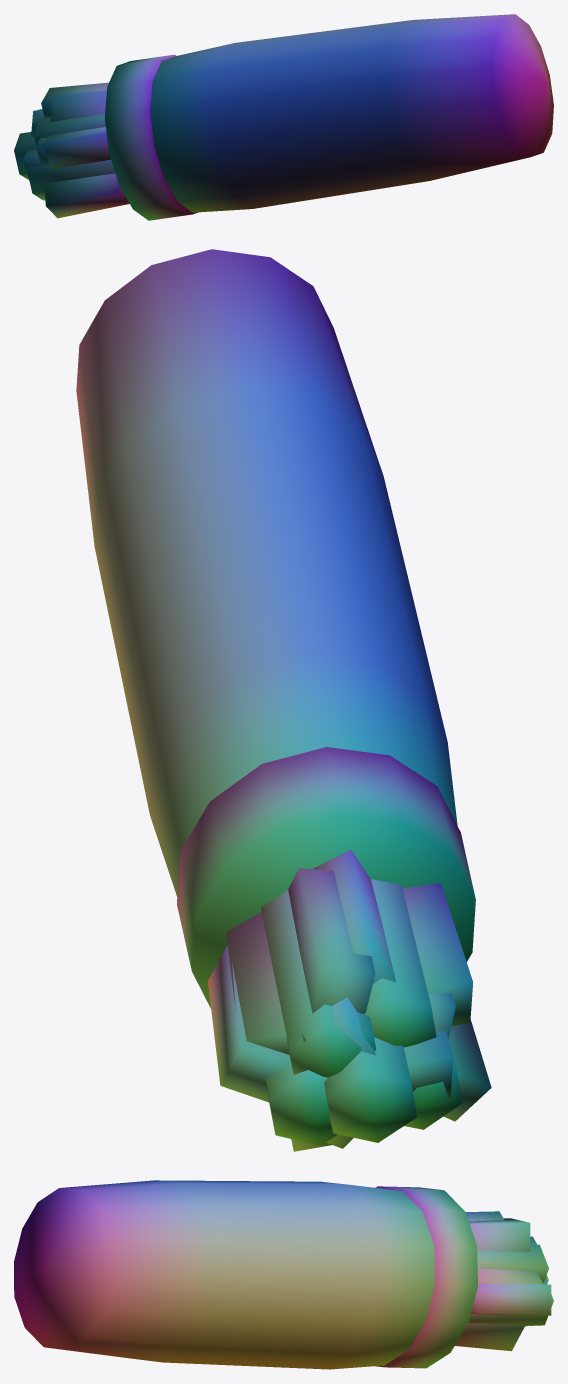
File: SM_Hero_Rogue_Quiver.fbx
3 renders of one model, top to bottom at view 1: azimuth 30°, elevation 25°; view 2: azimuth 150°, elevation 25°; view 3: azimuth 270°, elevation 25°, orthographic. The views are drawn at different scales.
Parts seen in each view (by area): view 1: SM_Hero_Rogue_Quiver; view 2: SM_Hero_Rogue_Quiver; view 3: SM_Hero_Rogue_Quiver.
Boxes of the visible parts, x1,y1,x2,y2 form: SM_Hero_Rogue_Quiver: (14, 14, 553, 220); SM_Hero_Rogue_Quiver: (76, 249, 491, 1151); SM_Hero_Rogue_Quiver: (14, 1180, 553, 1369).
Bounding box in the file's own units: 0.2728 × 0.1861 × 0.3163.
